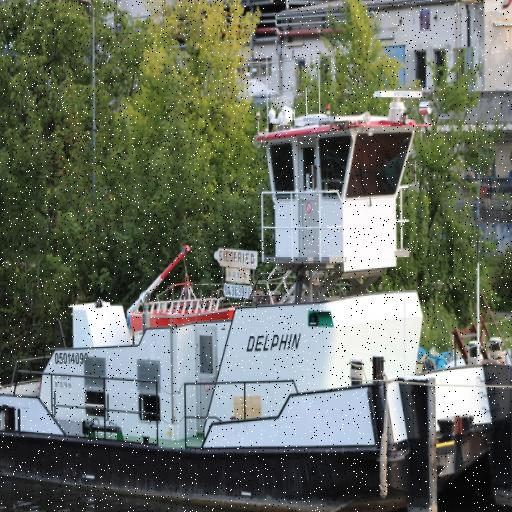tugboat: (1, 84, 512, 512)
